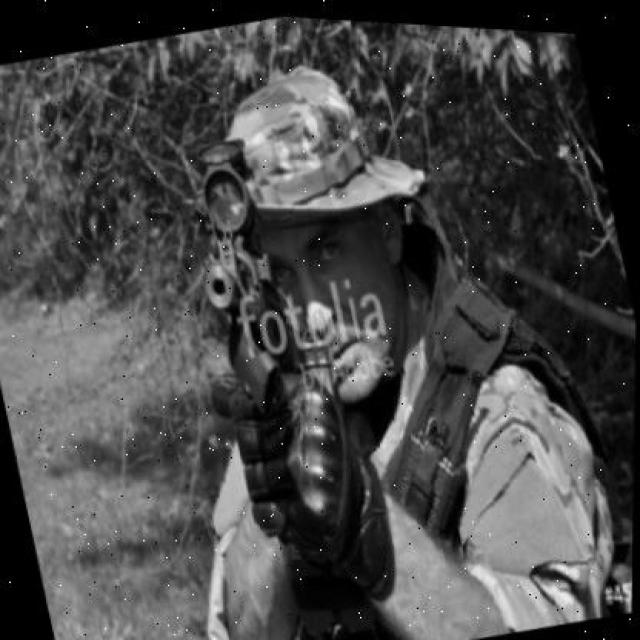weapon: (185, 135, 307, 413)
